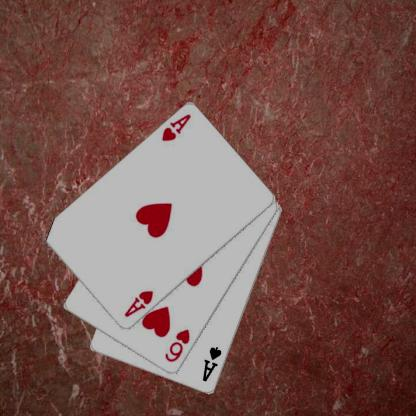6H: (162, 327, 191, 364)
AH: (121, 288, 155, 319), (159, 112, 192, 143)
AS: (200, 345, 223, 383)
